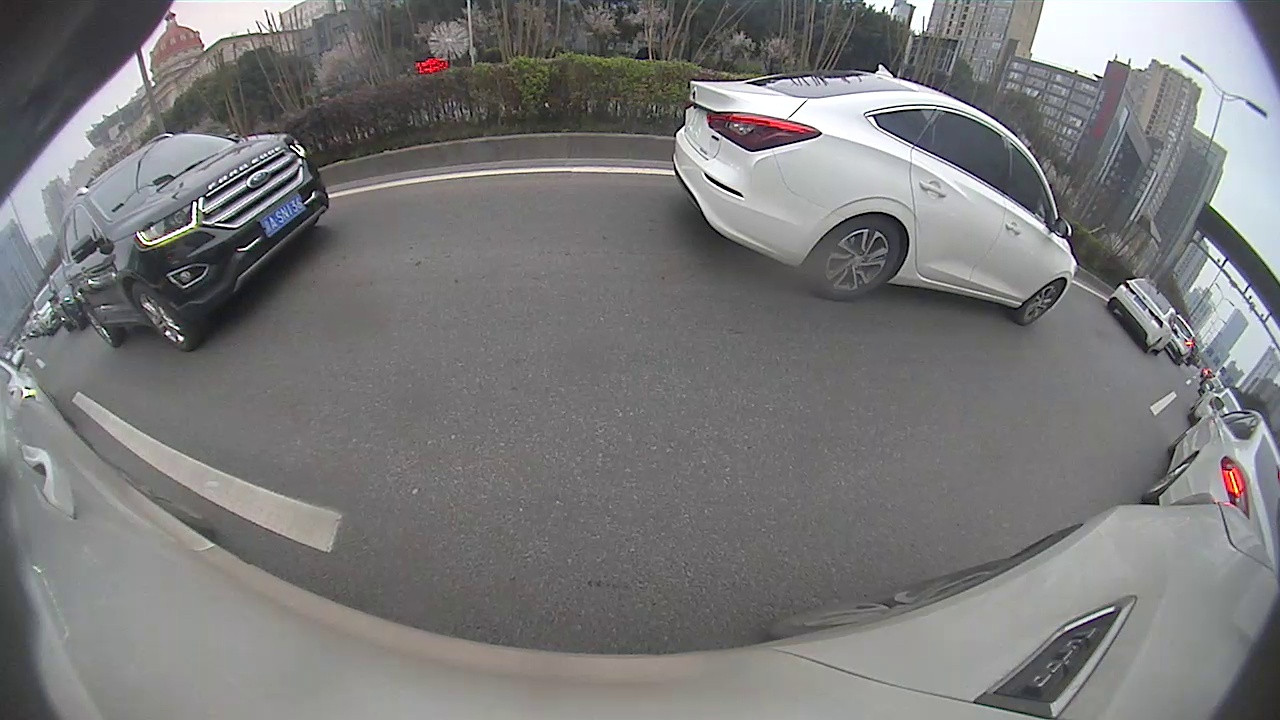car: (671, 63, 1077, 328), (60, 133, 330, 348), (1139, 397, 1278, 571), (1106, 275, 1176, 355)
front: (127, 283, 192, 347), (1015, 277, 1067, 325)
rear: (806, 216, 903, 297)
